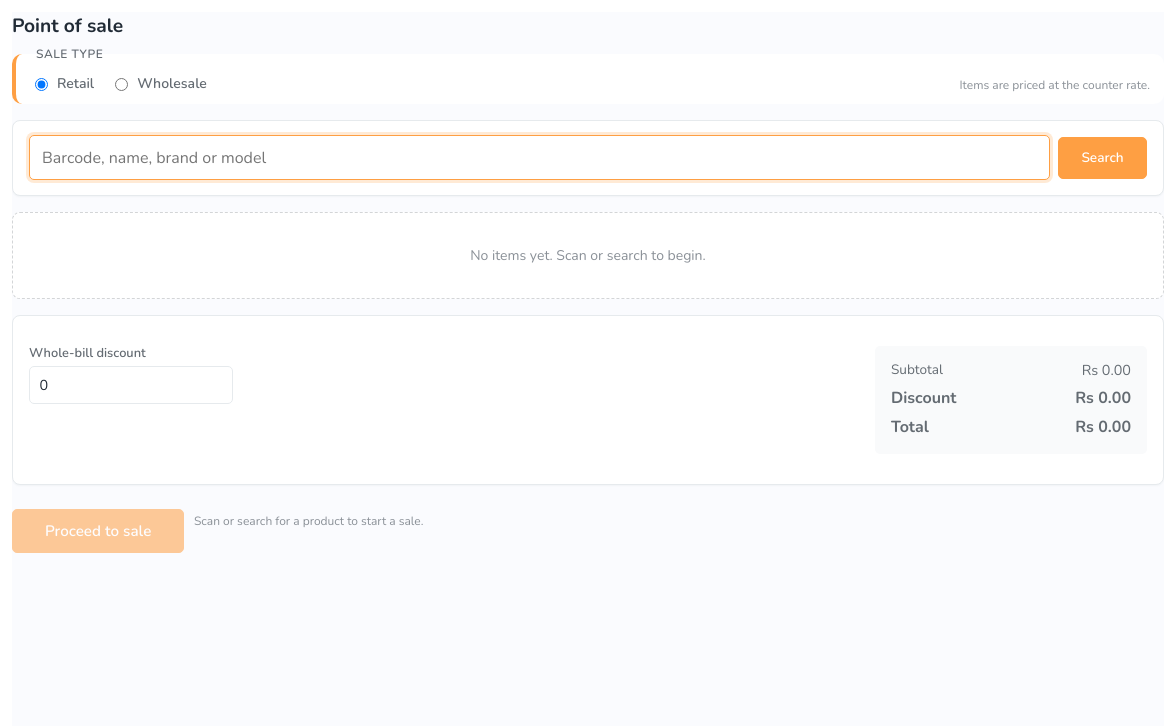
Test case: POS search results › says so when a wholesale sale falls back to the retail price
Type "type-c" into the field named "scan or search".
click(540, 158); type("type-c")  # box [29,135,1050,180]
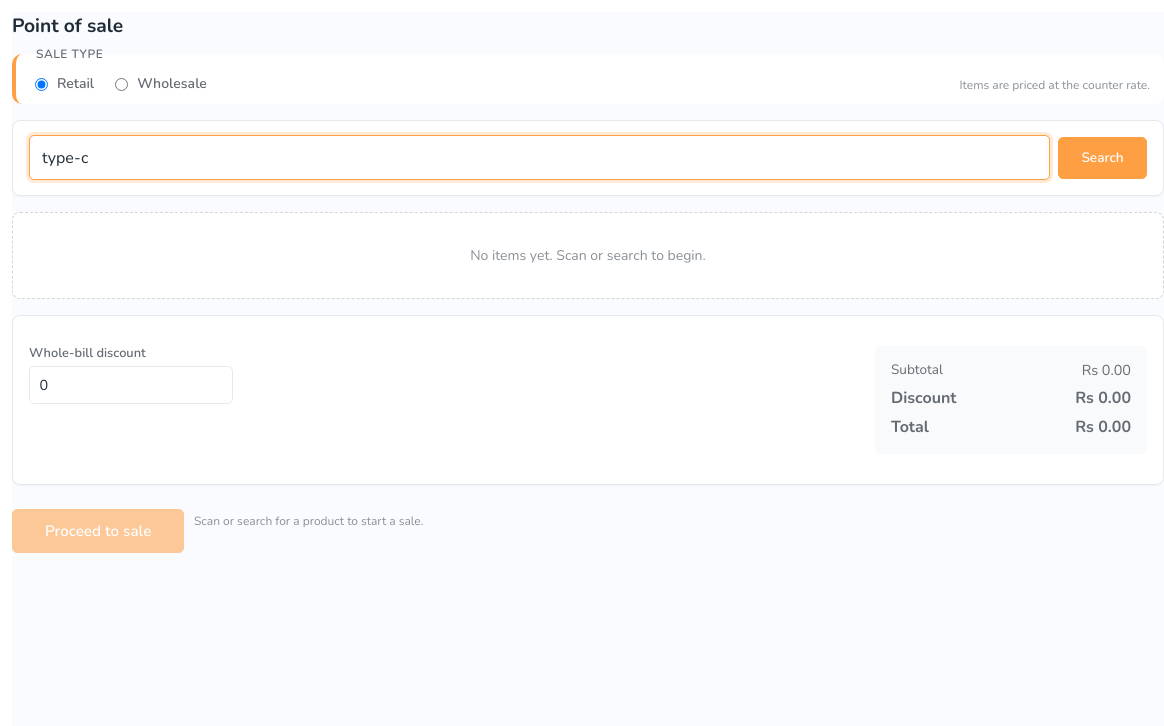
Press Enter
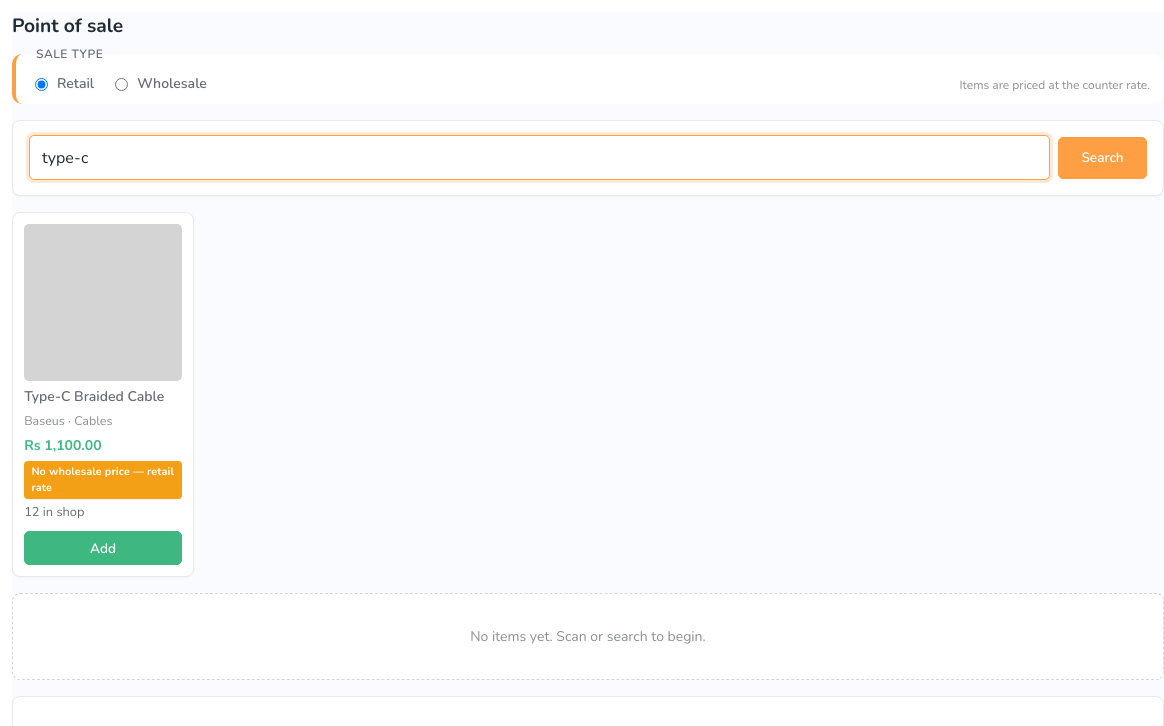
Result: the text "No wholesale price — retail rate" is shown at [24,461,182,499]
